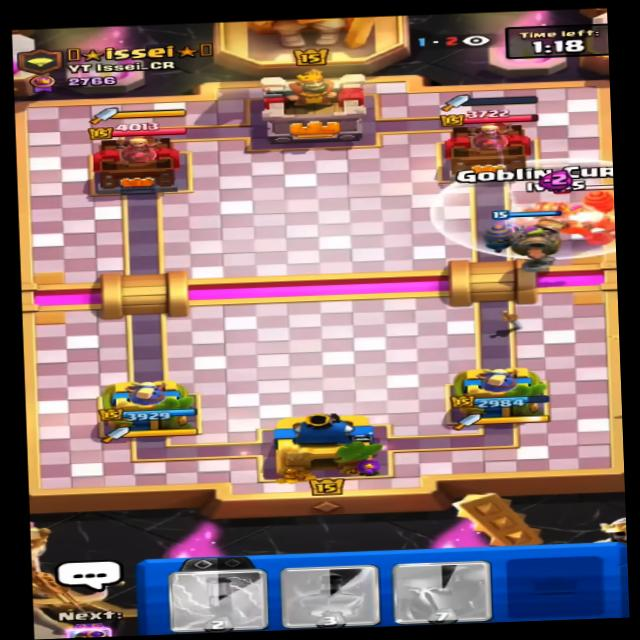goblin-machine: (529, 180, 621, 243)
